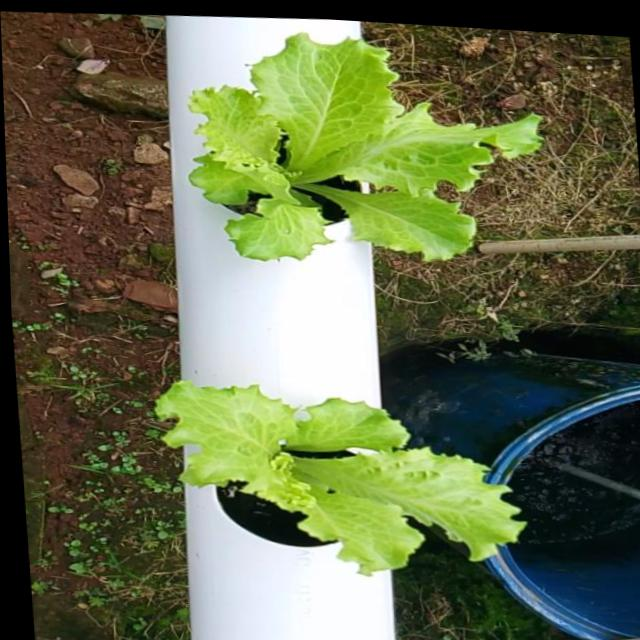Baby: (188, 29, 541, 261), (156, 383, 525, 578)
